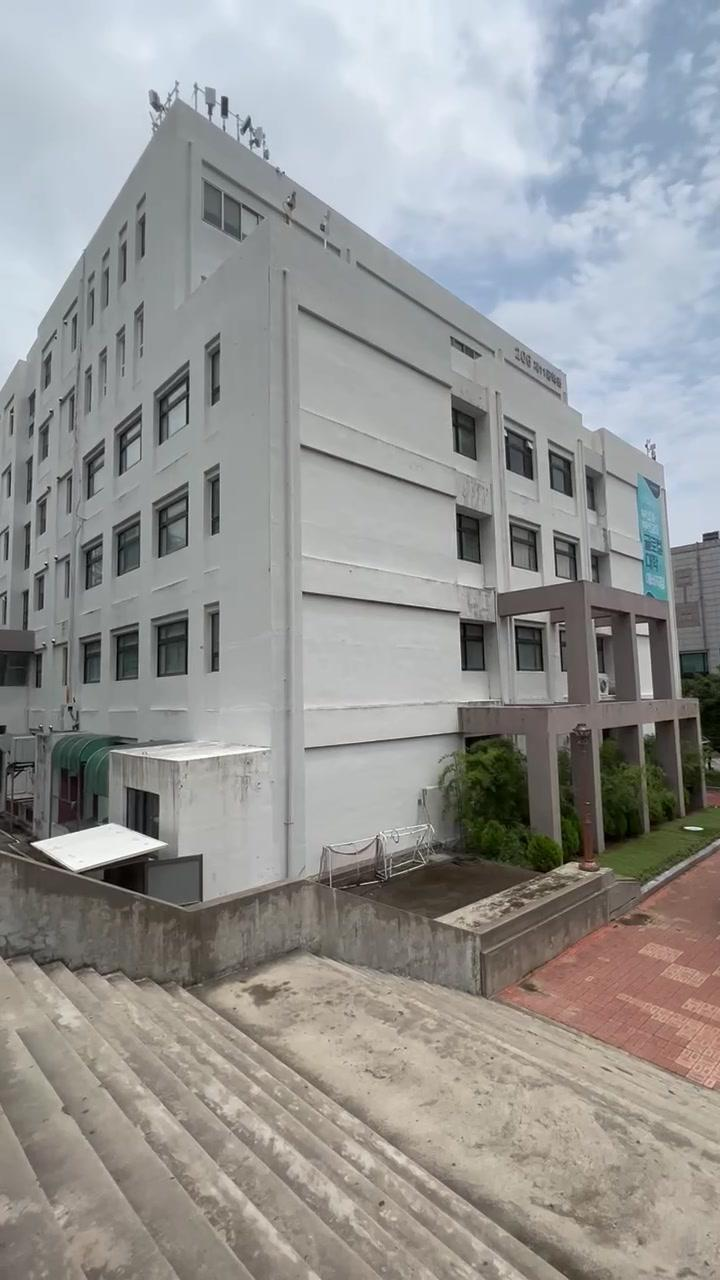building: (18, 96, 688, 816)
